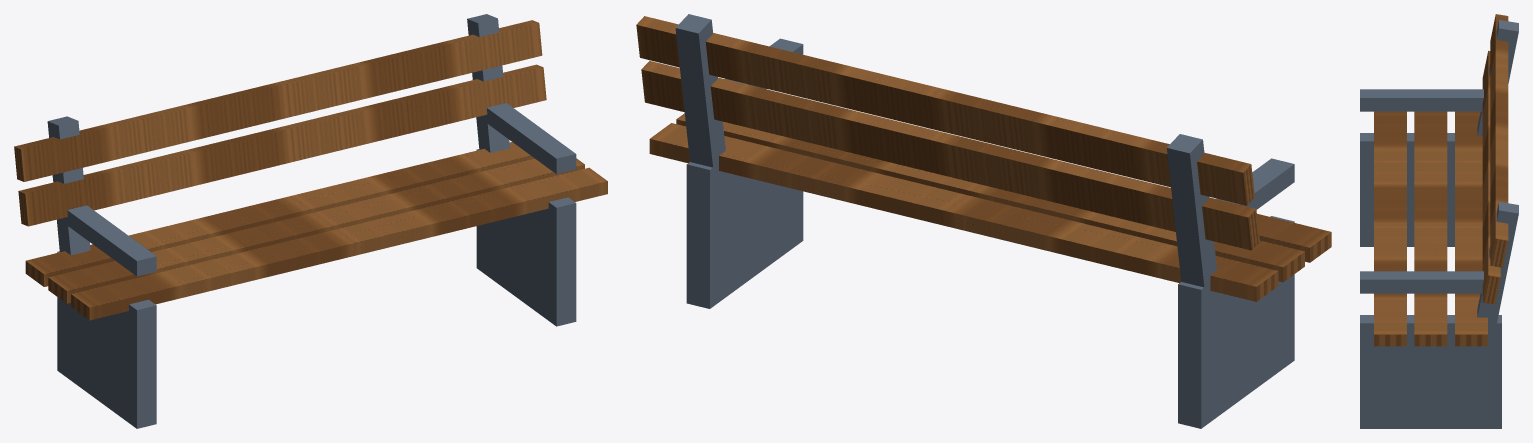
Rendered from bench_park_classic.glb.
The picture shows the model from 3 angles, left to right: view 1: azimuth 30°, elevation 25°; view 2: azimuth 150°, elevation 25°; view 3: azimuth 270°, elevation 25°; orthographic projection. The views are drawn at different scales.
Parts seen in each view (by area): view 1: bench_park_classic; view 2: bench_park_classic; view 3: bench_park_classic.
Part boxes in pixels (box(x1,y1,x2,y2)): bench_park_classic: box(14, 14, 607, 428); bench_park_classic: box(636, 14, 1331, 428); bench_park_classic: box(1360, 14, 1518, 428).
Bounding box in the file's own units: 2.1 × 0.9528 × 0.6277.
2 materials, 1 textured.
